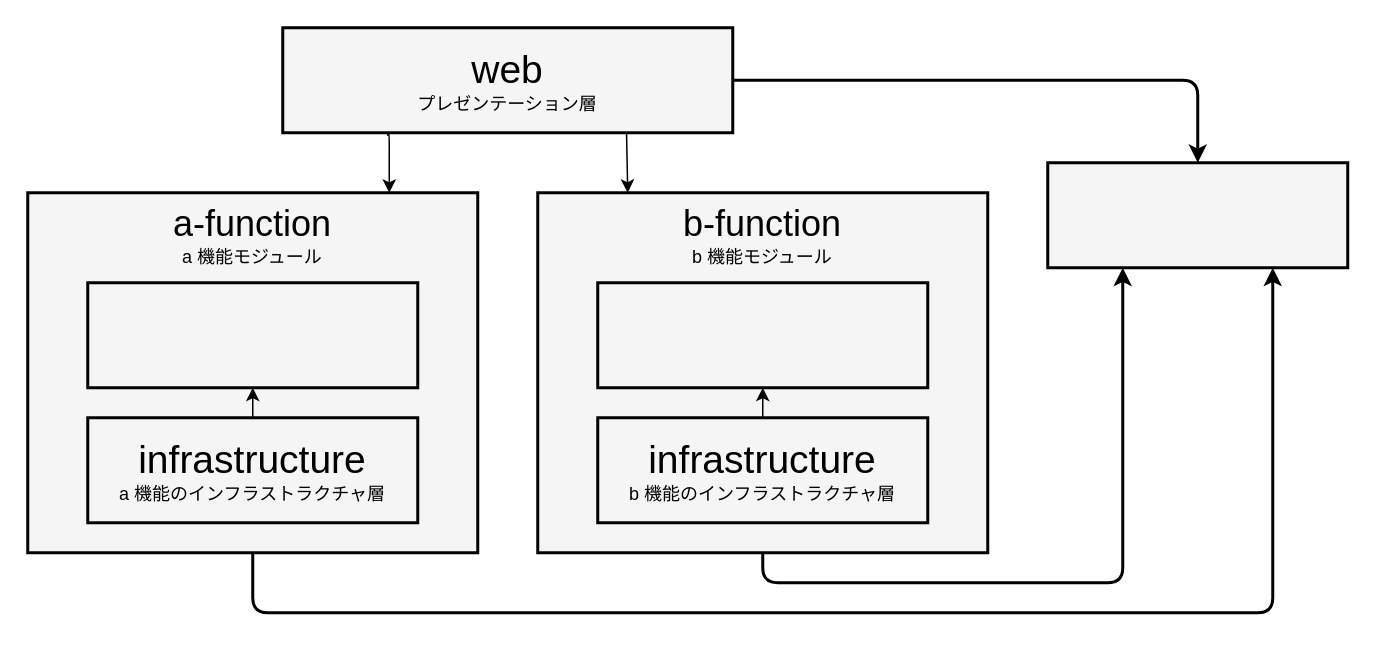
Image size: 1374x651. Some labels were removed from this diagram. The shapes that lost their labels are listed below. From the top down, each one's centre as x and y in pixels, then its label:
point (1197, 214): system-common システム共通機能
point (252, 334): application-core a 機能のアプリケーションコア層
point (762, 334): application-core b 機能アプリケーションコア層
